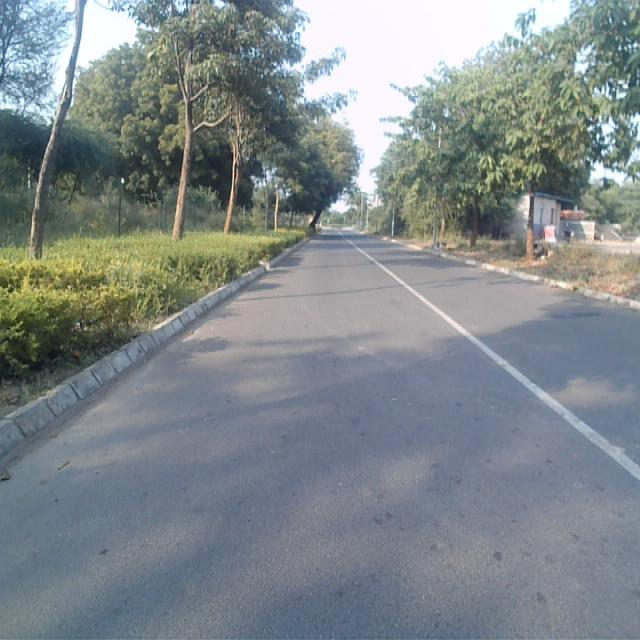lane: (0, 233, 640, 640)
